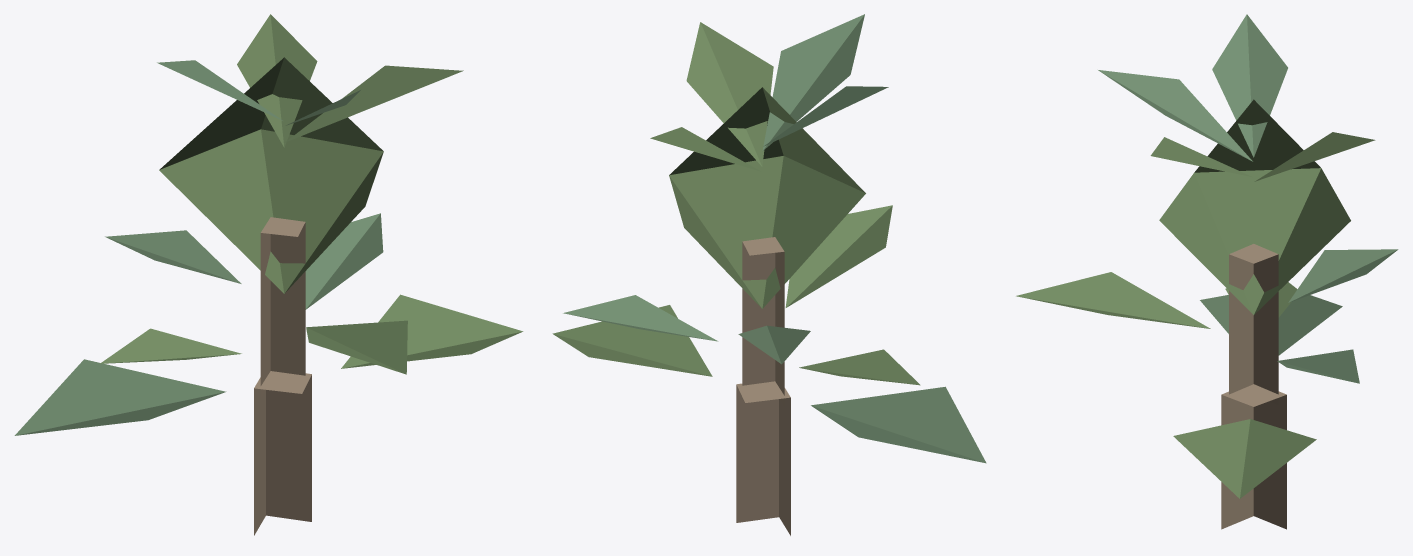
File: shu.hongpi@seedling__summer.glb
3 views of the same model, side by side, from view 1: azimuth 30°, elevation 25°; view 2: azimuth 150°, elevation 25°; view 3: azimuth 270°, elevation 25° (orthographic). The views are drawn at different scales.
Parts seen in each view (by area): view 1: shu.hongpi@seedling__summer; view 2: shu.hongpi@seedling__summer; view 3: shu.hongpi@seedling__summer.
Boxes of the visible parts, left/top/right/bottom form: shu.hongpi@seedling__summer: left=14, top=14, right=523, bottom=535; shu.hongpi@seedling__summer: left=552, top=14, right=986, bottom=535; shu.hongpi@seedling__summer: left=1016, top=14, right=1398, bottom=529.
Size of the model in its own units: 1.83 by 1.8 by 1.37.
